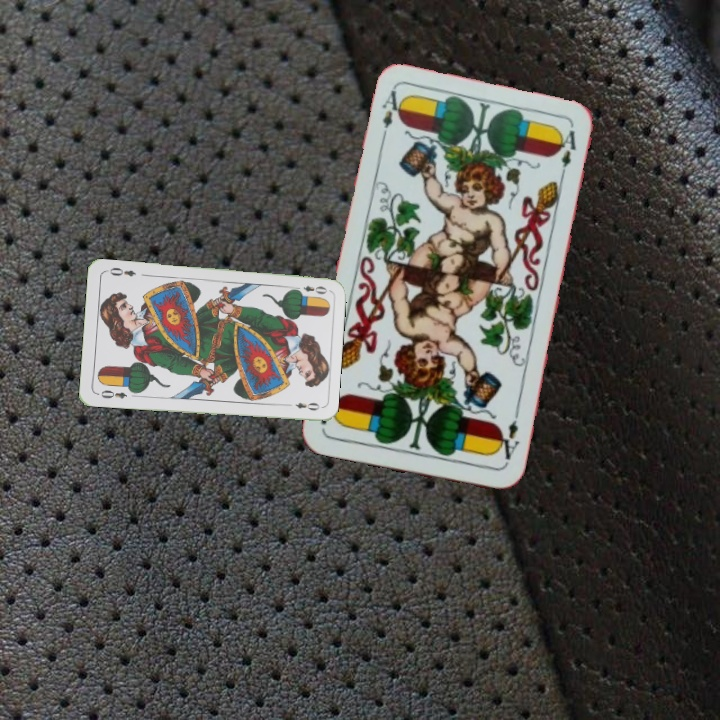EA: (492, 409, 522, 468), (377, 86, 407, 145)
EO: (290, 281, 330, 296), (97, 386, 129, 401)
